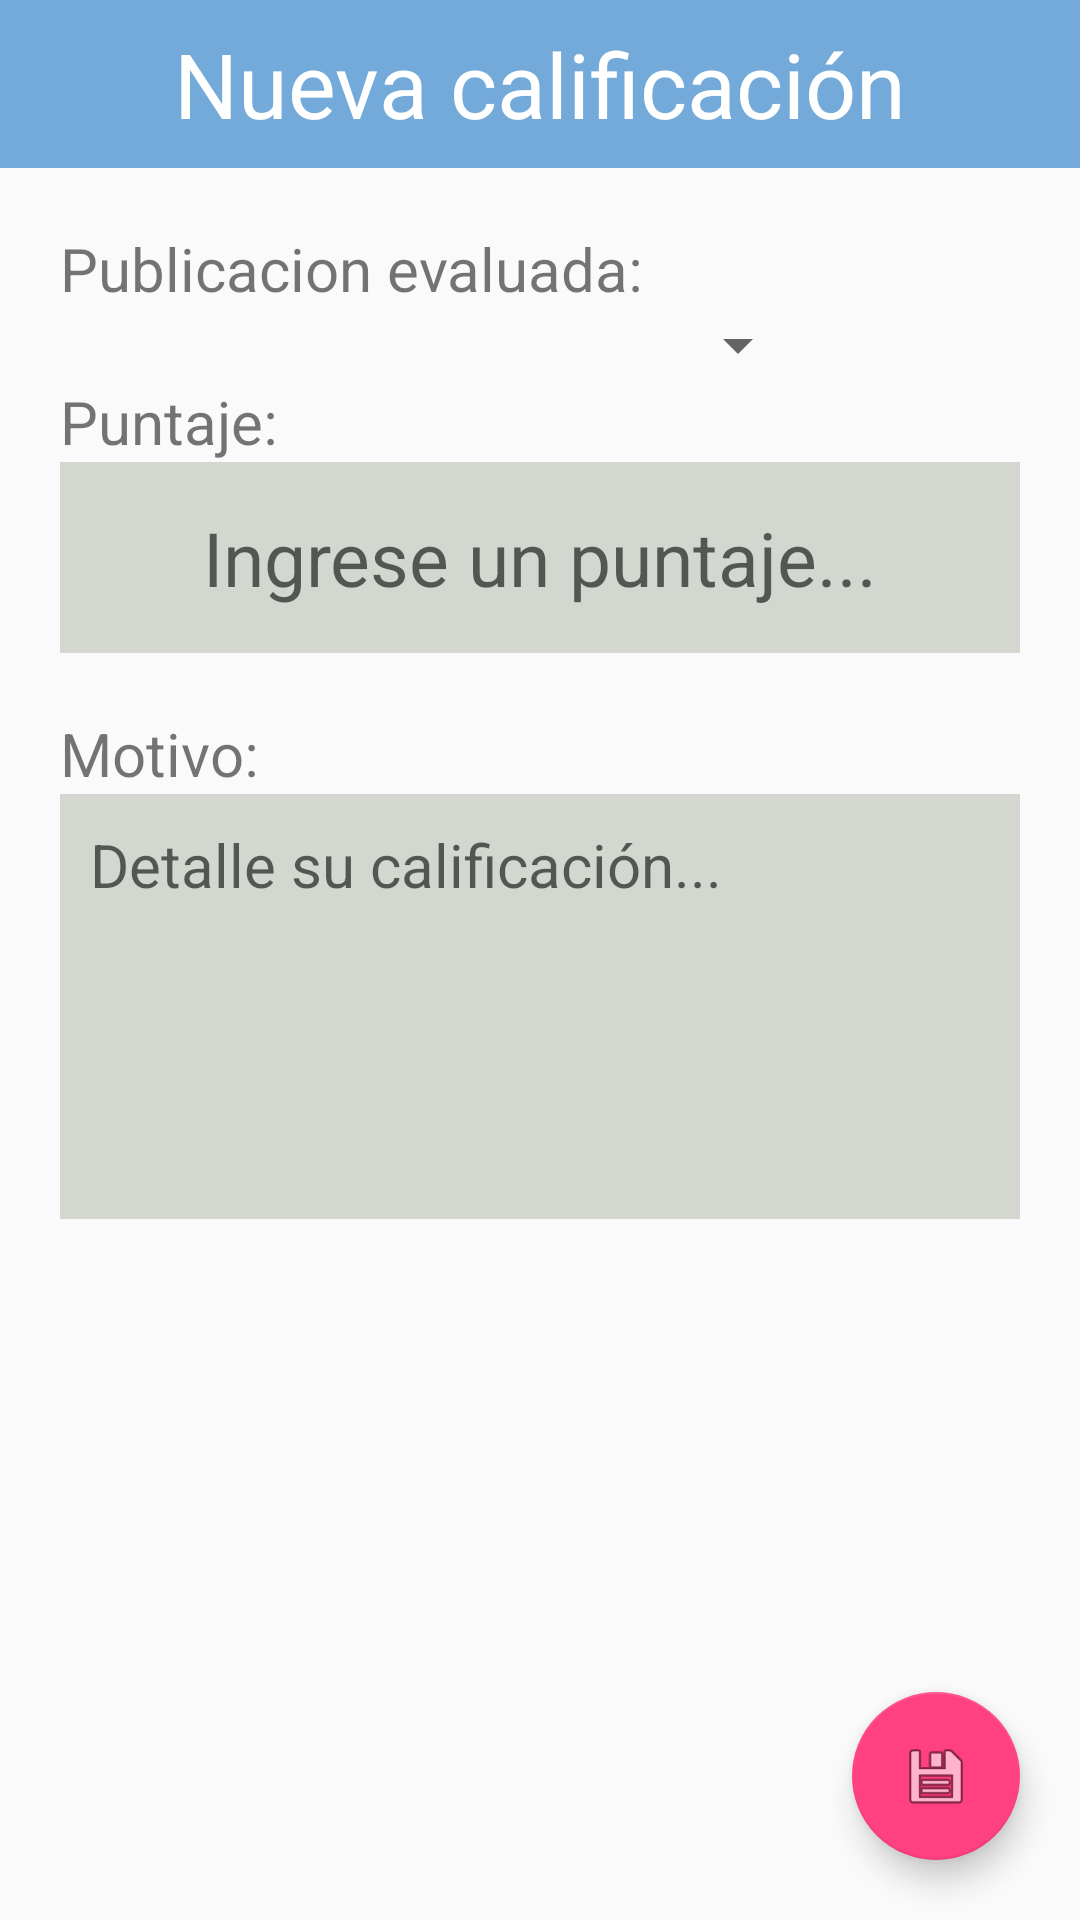

Where to tap for icons on this 1080w x 1920h app screen, as (x,y):
save: (936,1776)
